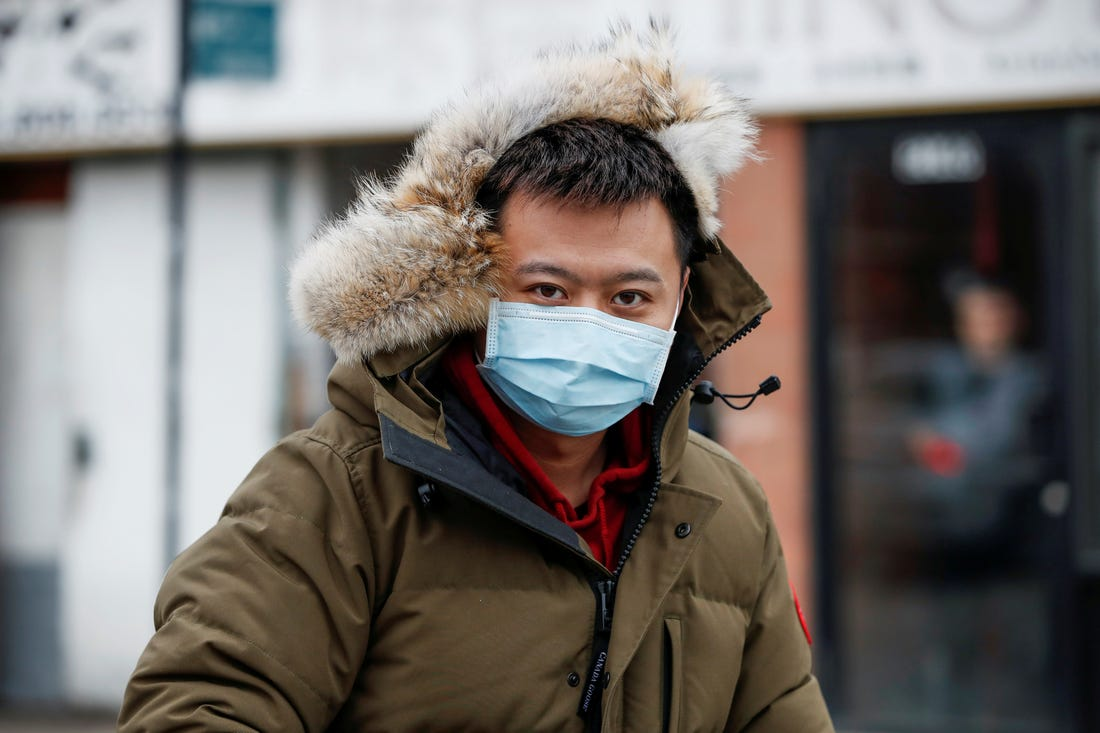surgical: (479, 294, 679, 438)
